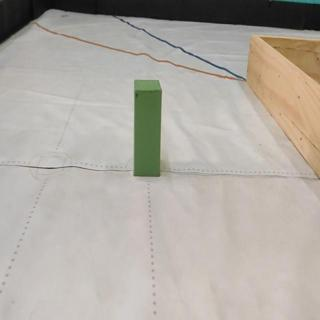greenbox: (132, 77, 163, 177)
